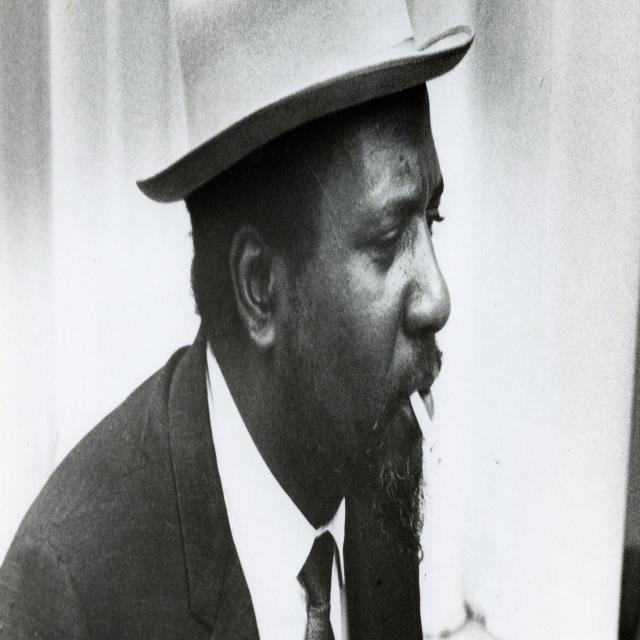cigarette: (407, 378, 456, 508)
